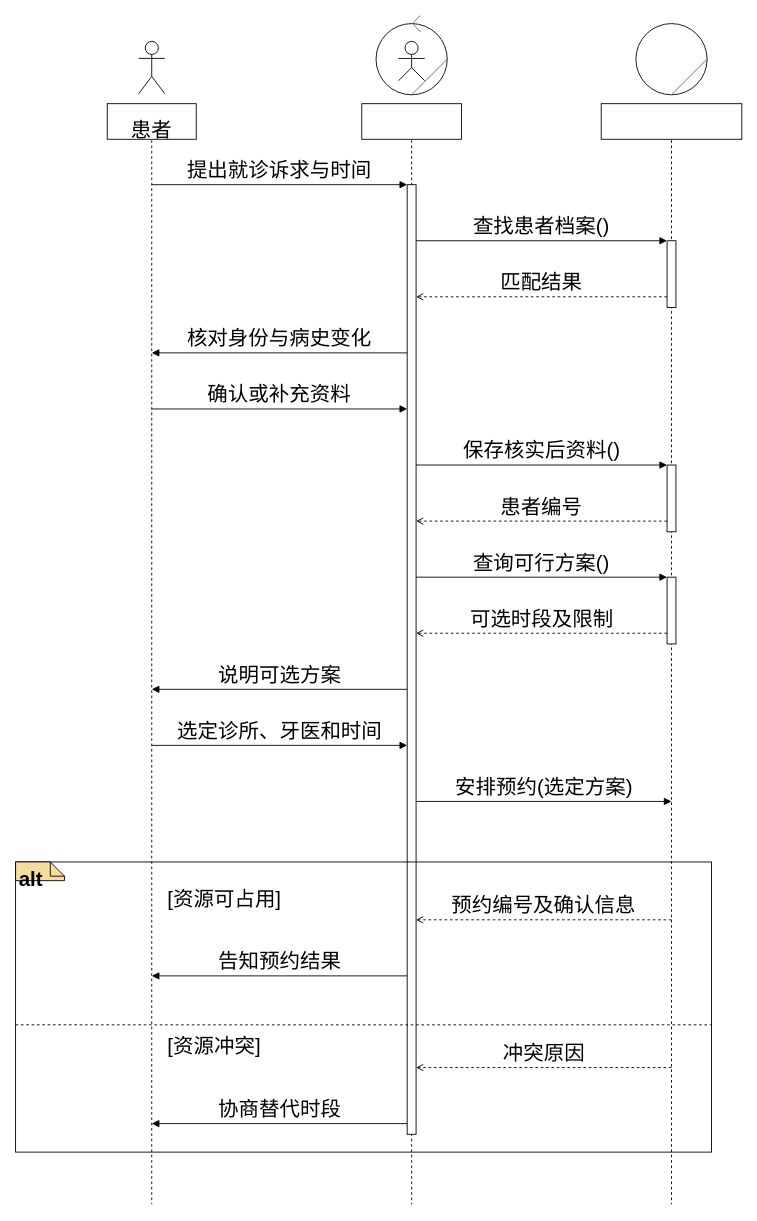
Image size: 757x1221. Some labels were removed from this diagram. Each missing label, with the centre of its shape:
"前台接待" goes at [411,121].
"诊疗管理系统" goes at [671,121].
